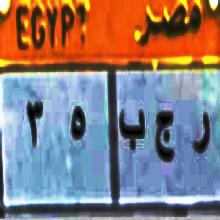3: (24, 91, 46, 157)
5: (70, 105, 86, 148)
baa: (118, 104, 148, 162)
jeem: (154, 106, 178, 165)
raa: (191, 104, 212, 162)
